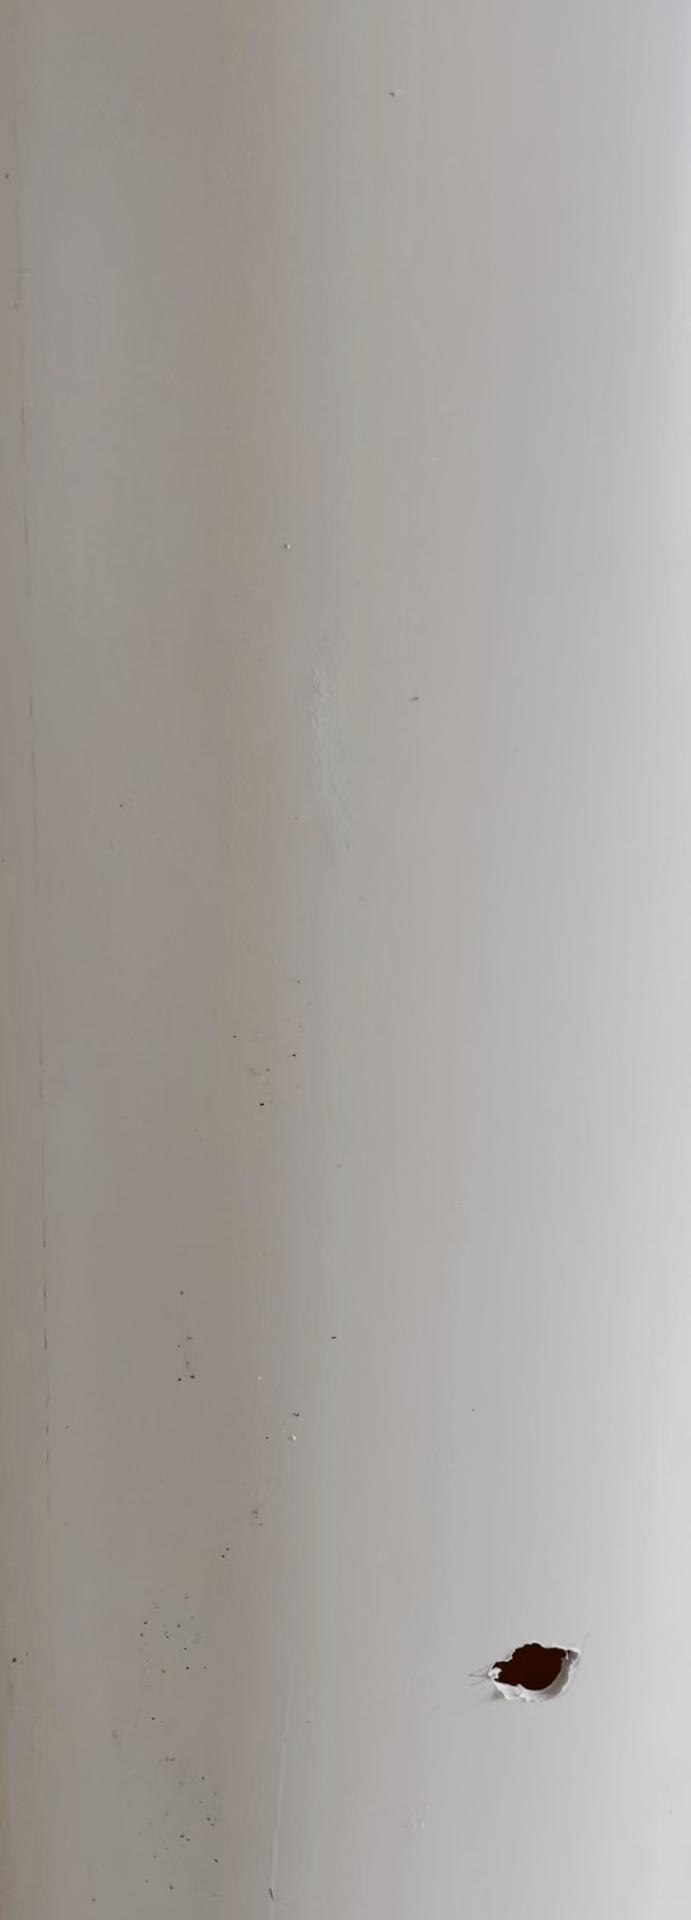kongdong: (474, 1629, 583, 1706)
